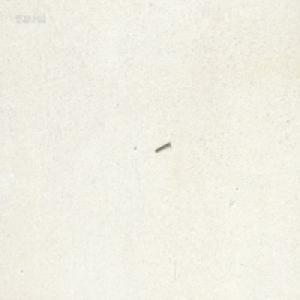Bolt: (154, 139, 170, 152)
